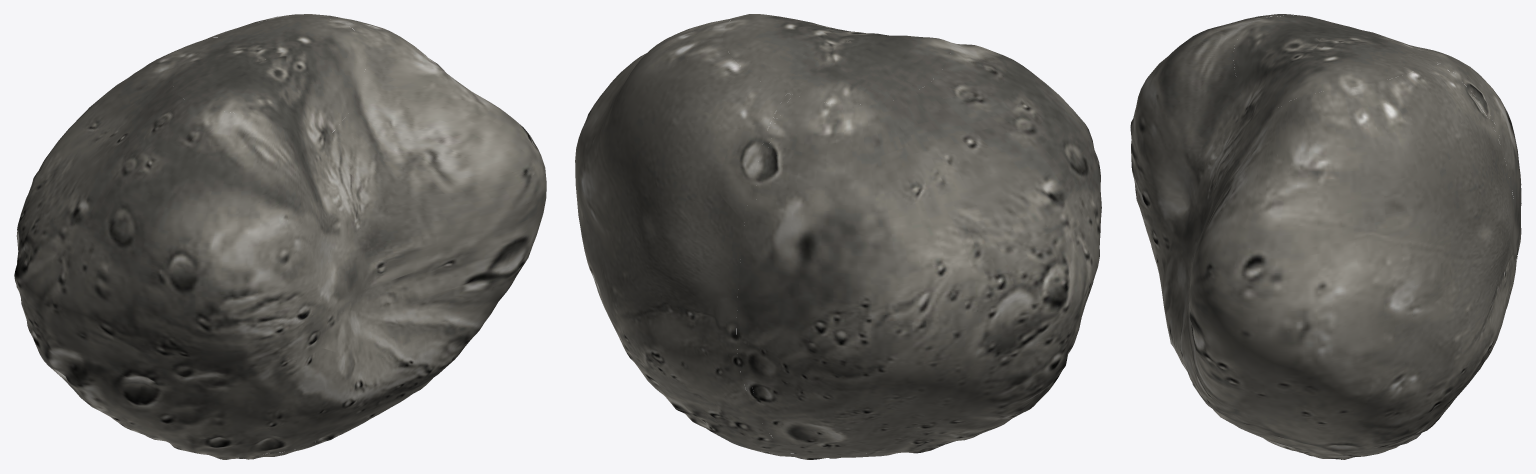
Rendered from Deimos_1_1000.glb.
The picture shows the model from 3 angles, left to right: view 1: azimuth 30°, elevation 25°; view 2: azimuth 150°, elevation 25°; view 3: azimuth 270°, elevation 25°; orthographic projection. The views are drawn at different scales.
Visible parts, largest first — view 1: deimos; view 2: deimos; view 3: deimos.
Part boxes in pixels (x1,y1,x2,y2): deimos: [14, 14, 546, 459]; deimos: [575, 14, 1101, 459]; deimos: [1130, 14, 1521, 459].
Size of the model in its own units: 15.01 by 11.87 by 10.51.
1 material, 1 textured.
